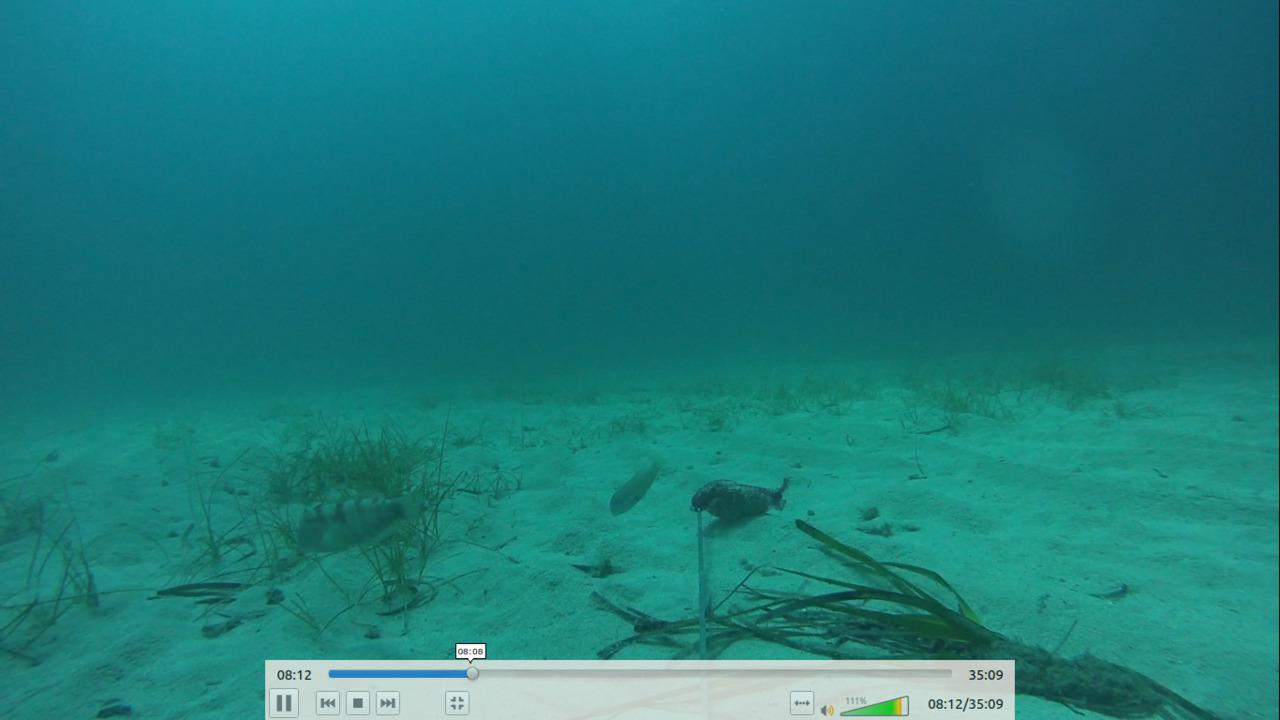raor: (286, 489, 425, 564), (606, 456, 664, 520)
